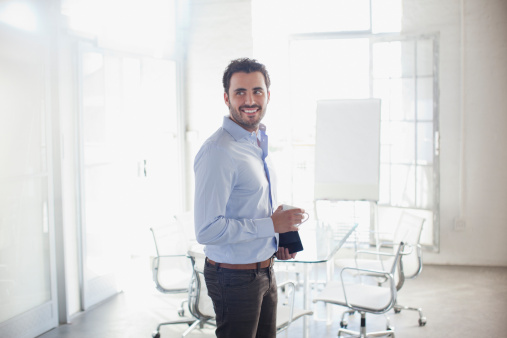em pe: (192, 49, 296, 338)
